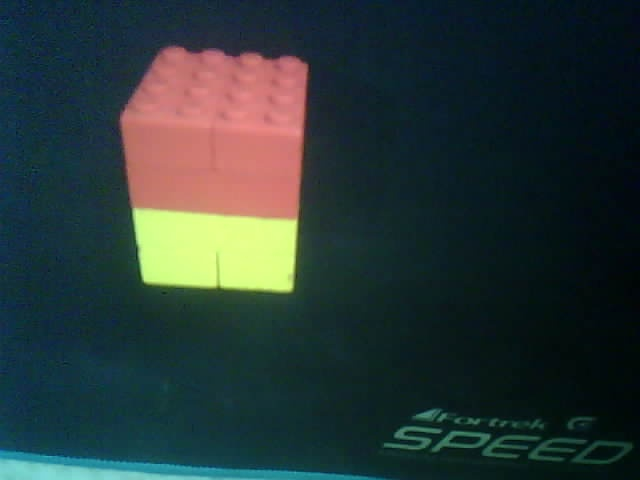lego: (117, 43, 309, 295)
